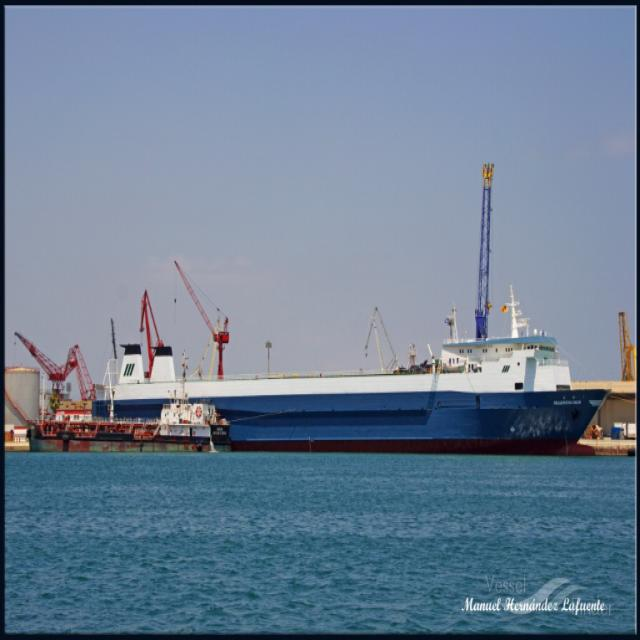RORO Vessel: (83, 315, 610, 450)
